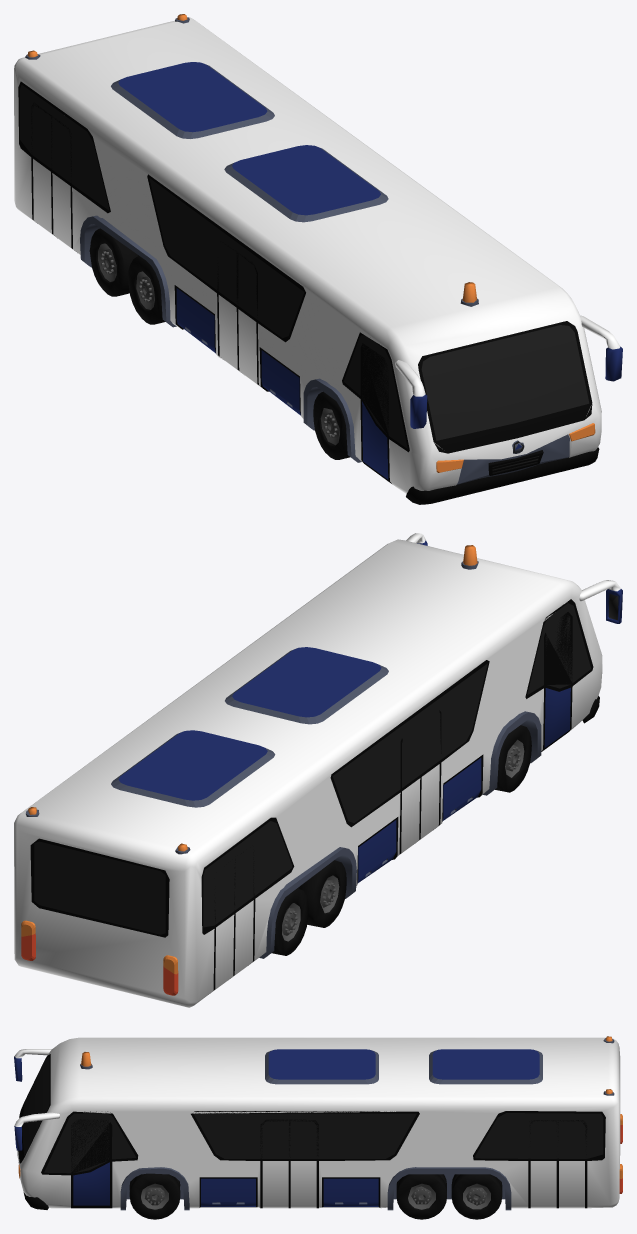
Rendered from bus_piste_pack-CNDbZa8u.glb.
The picture shows the model from 3 angles, top to bottom: view 1: azimuth 30°, elevation 25°; view 2: azimuth 150°, elevation 25°; view 3: azimuth 270°, elevation 25°; orthographic projection. The views are drawn at different scales.
Visible parts, largest first — view 1: 20.PassengerBus_Cube.214; view 2: 20.PassengerBus_Cube.214; view 3: 20.PassengerBus_Cube.214.
Part boxes in pixels (x1,y1,x2,y2): 20.PassengerBus_Cube.214: [14, 14, 622, 504]; 20.PassengerBus_Cube.214: [14, 533, 622, 1007]; 20.PassengerBus_Cube.214: [14, 1036, 622, 1219].
Bounding box in the file's own units: 5.05 × 4.27 × 17.55.
1 material, 1 textured.
